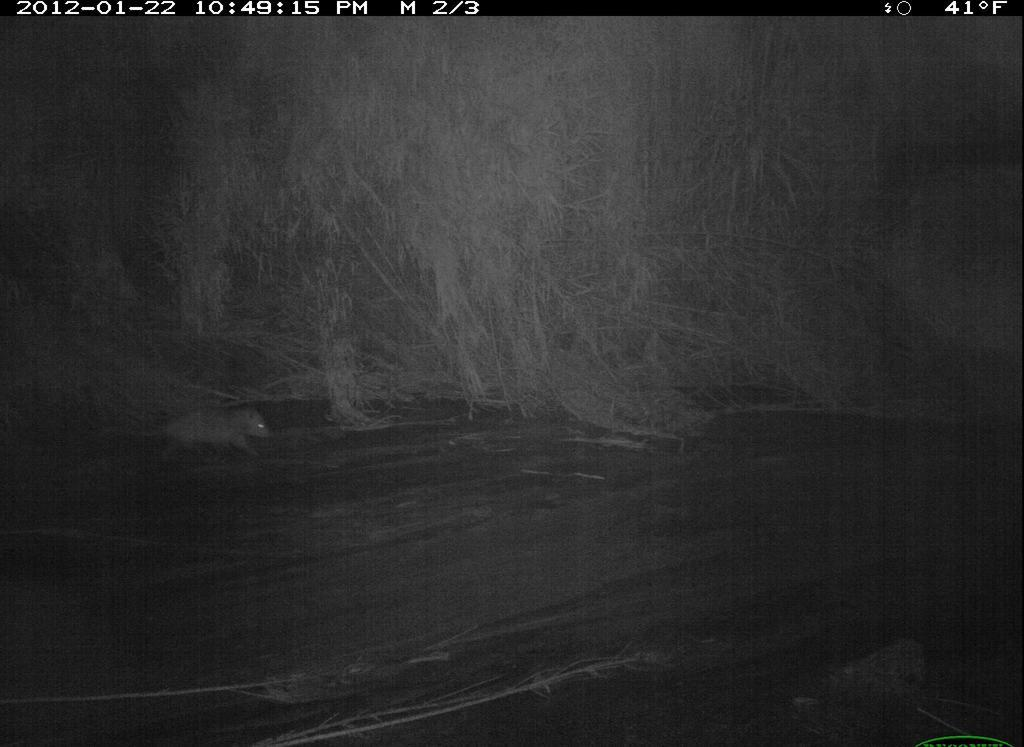opossum: (82, 397, 287, 475)
